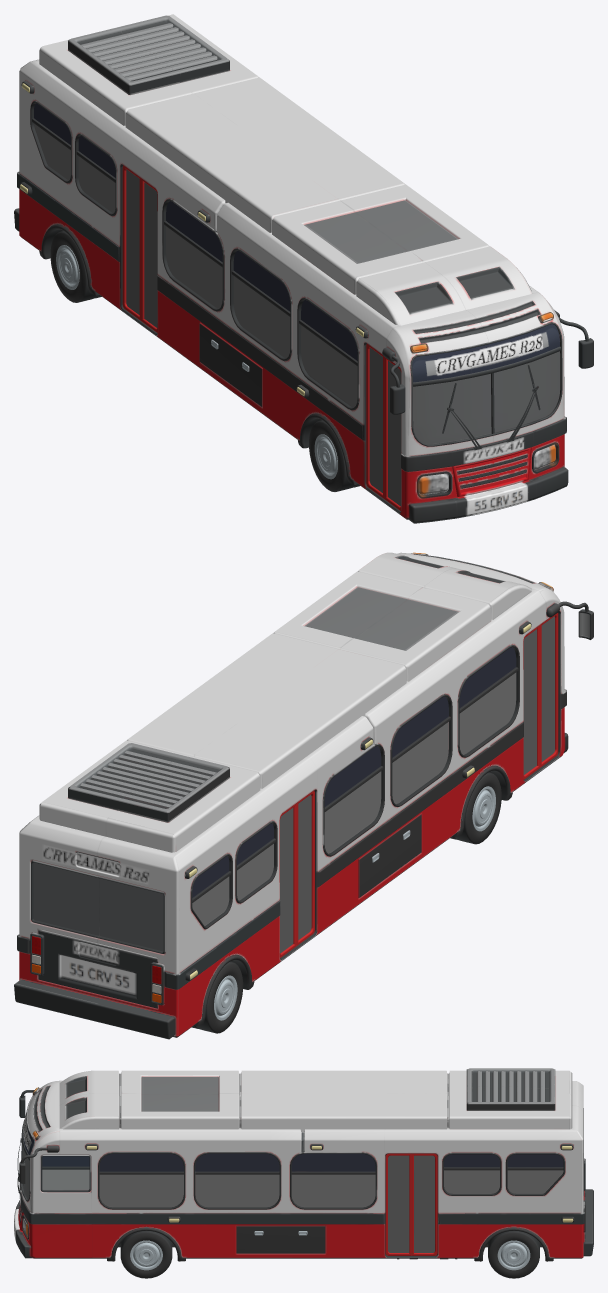
3 views of the same model, one above another, from view 1: azimuth 30°, elevation 25°; view 2: azimuth 150°, elevation 25°; view 3: azimuth 270°, elevation 25° (orthographic). The views are drawn at different scales.
Visible parts, largest first — view 1: node_id29; view 2: node_id29; view 3: node_id29.
Part boxes in pixels (left/top/right/bottom): node_id29: left=14, top=14, right=593, bottom=523; node_id29: left=14, top=552, right=593, bottom=1039; node_id29: left=14, top=1068, right=593, bottom=1278.
Bounding box in the file's own units: 0.9754 × 1.08 × 3.43.
Materials: 1 (1 with a texture image).
